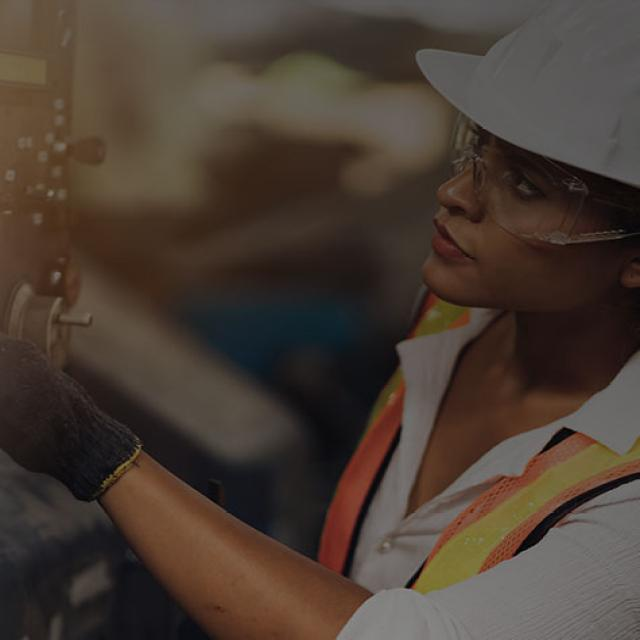goggles: (443, 116, 640, 258)
helmet: (412, 0, 640, 190)
vest: (306, 287, 640, 601)
